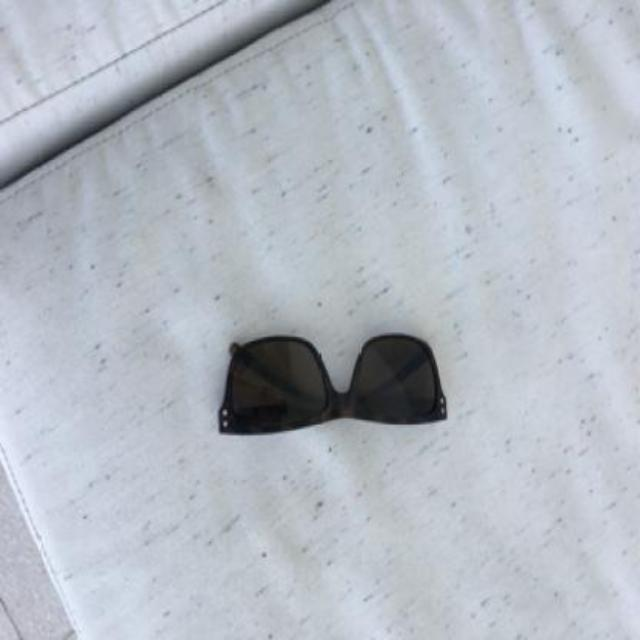sunglasses: (217, 333, 447, 433)
